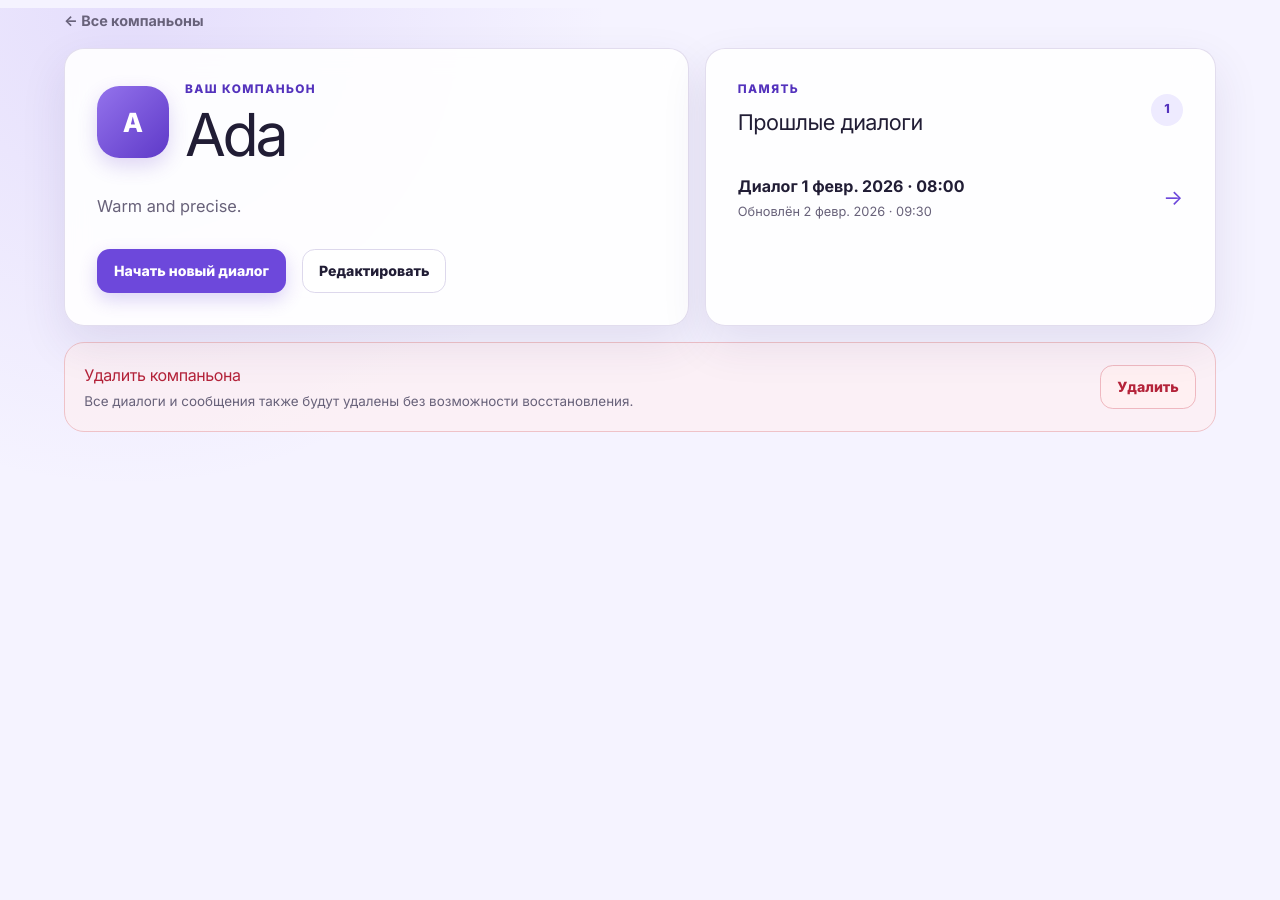
Test: CompanionProfile › enters edit mode with the current companion prefilled
Expected: the heading "Ada" is shown, [185,99,286,170]
Step 1. Click the button "Редактировать" → (374, 271), box [302,248,446,293]
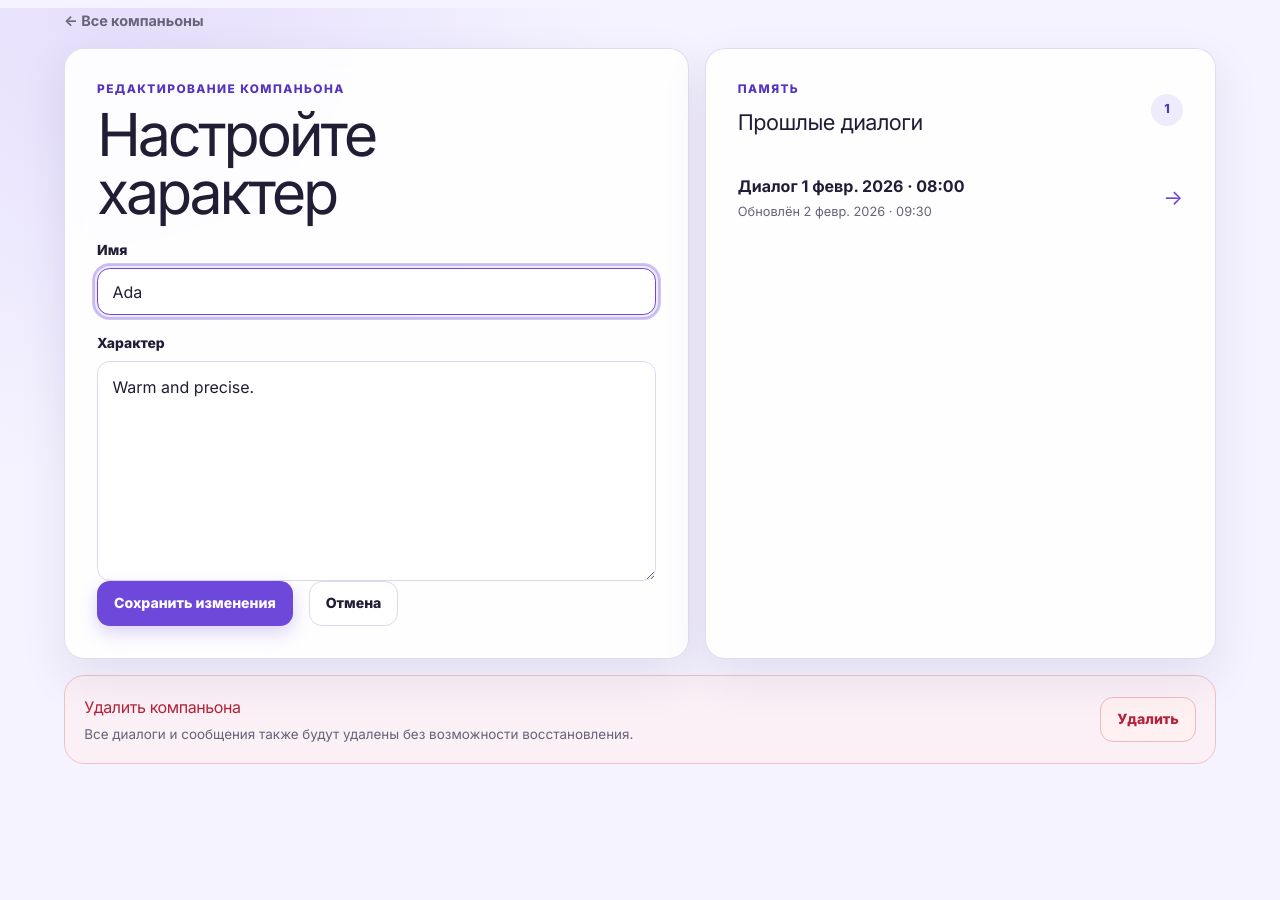
Now the heading "Настройте характер" is shown, box [97,99,375,228]
Now the field labelled "Имя" holds "Ada", box [97,268,656,315]
Now the text box labelled "Характер" holds "Warm and precise.", box [97,361,656,581]
